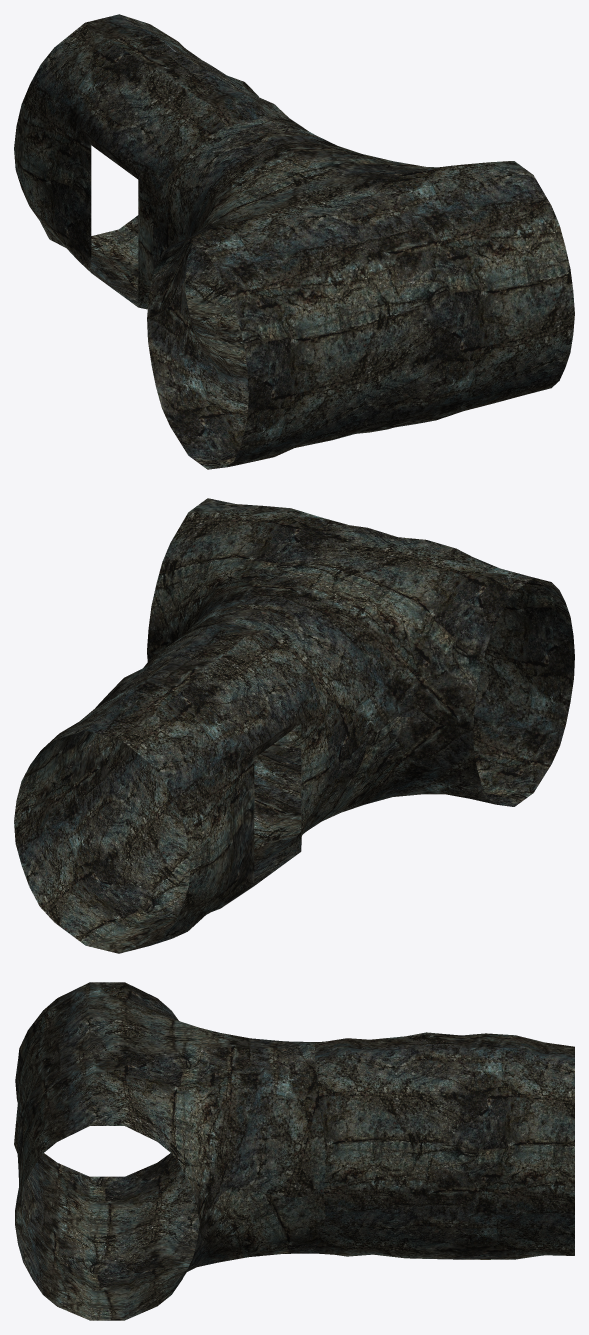
Rendered from tunnel_theta_t_junction_doorway_side.dae.
3 renders of one model, top to bottom at view 1: azimuth 30°, elevation 25°; view 2: azimuth 150°, elevation 25°; view 3: azimuth 270°, elevation 25°, orthographic. The views are drawn at different scales.
Visible parts, largest first — view 1: t_junction_doorway_side; view 2: t_junction_doorway_side; view 3: t_junction_doorway_side.
Part boxes in pixels (left/top/right/bottom): t_junction_doorway_side: left=14, top=14, right=574, bottom=469; t_junction_doorway_side: left=14, top=498, right=574, bottom=953; t_junction_doorway_side: left=14, top=982, right=574, bottom=1320.
Size of the model in its own units: 8 by 5.53 by 13.2.
